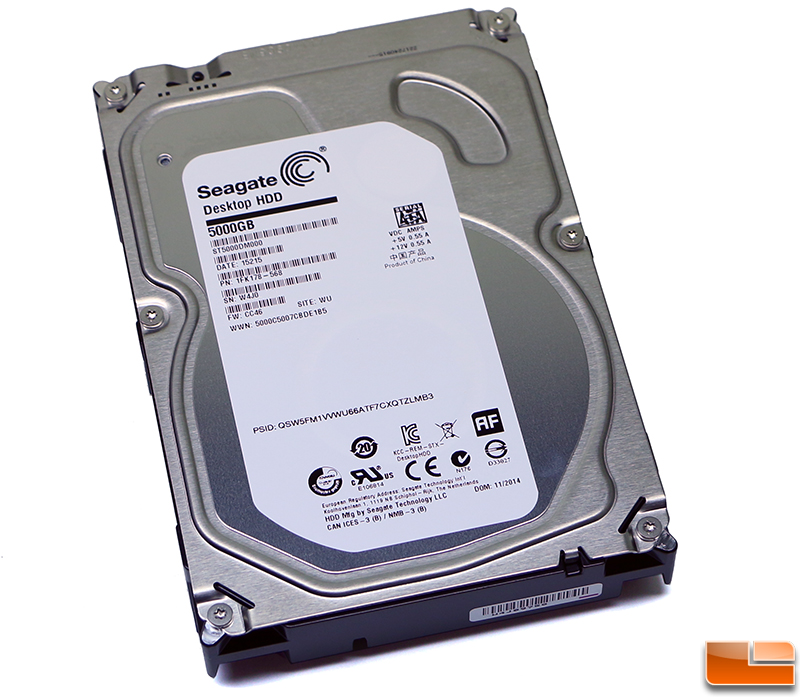seagate-hdd-240gb: (100, 9, 662, 682)
